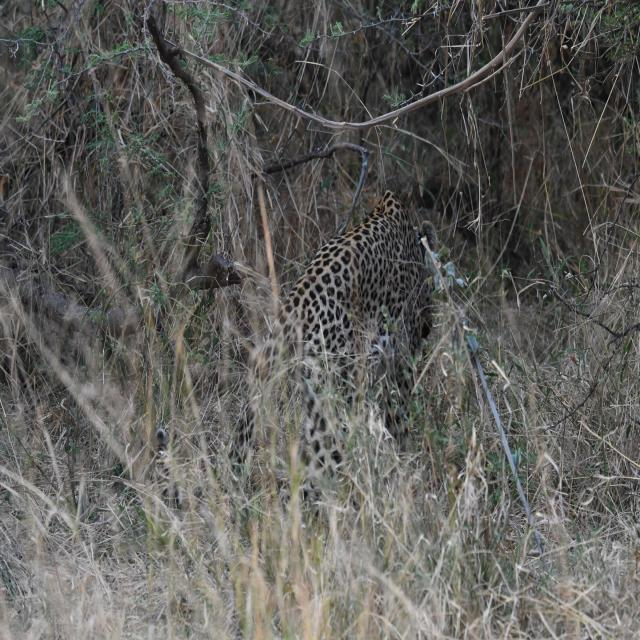Leopard: (174, 190, 430, 502)
